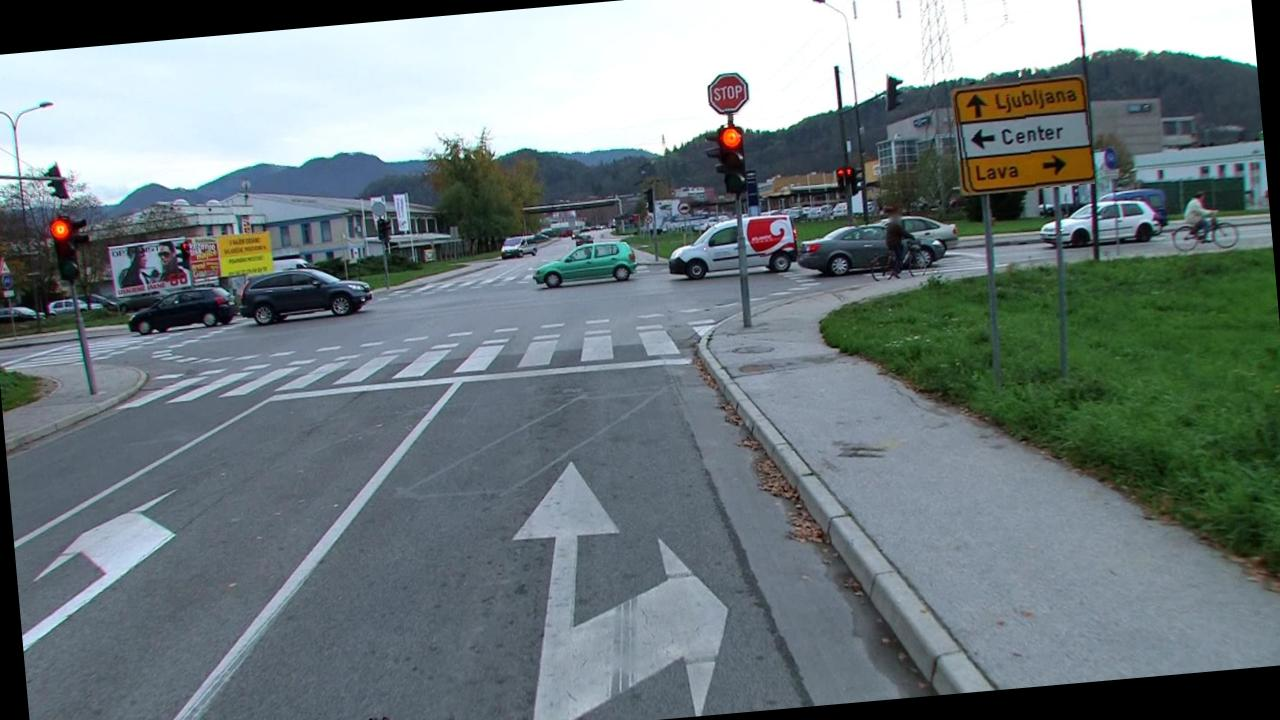Multi-inform: (951, 74, 1095, 197)
Rectangle: (1, 288, 16, 298)
Round: (0, 276, 13, 290)
Stop: (706, 71, 752, 117)
Triangle: (0, 258, 12, 277)
